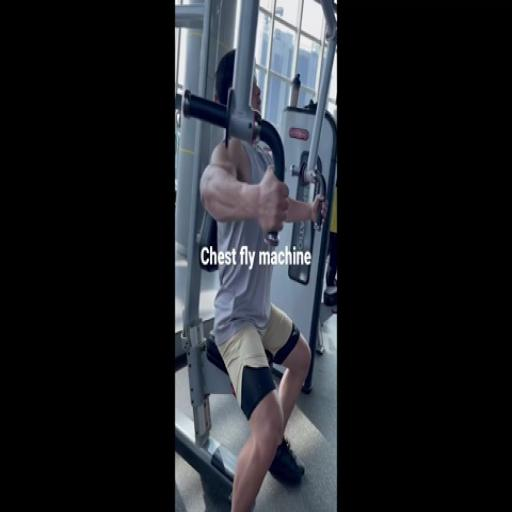exercise: (197, 47, 330, 511)
